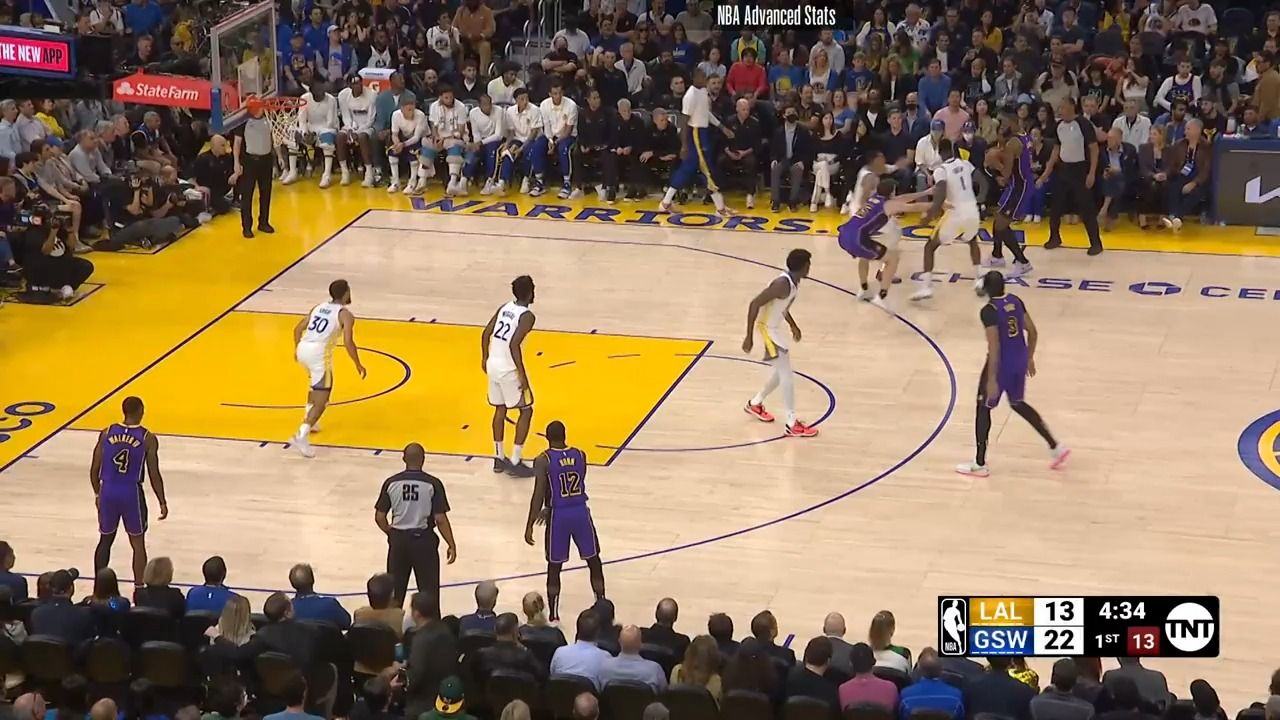net: (229, 82, 313, 141)
player: (955, 271, 1072, 482), (524, 421, 612, 621), (89, 392, 174, 583), (284, 274, 370, 462), (732, 247, 816, 436), (482, 271, 555, 486), (831, 180, 939, 309), (913, 140, 989, 302), (974, 116, 1043, 282), (849, 147, 891, 303)
referee: (375, 436, 463, 615), (1045, 97, 1110, 256), (673, 68, 731, 224), (230, 98, 285, 244)
